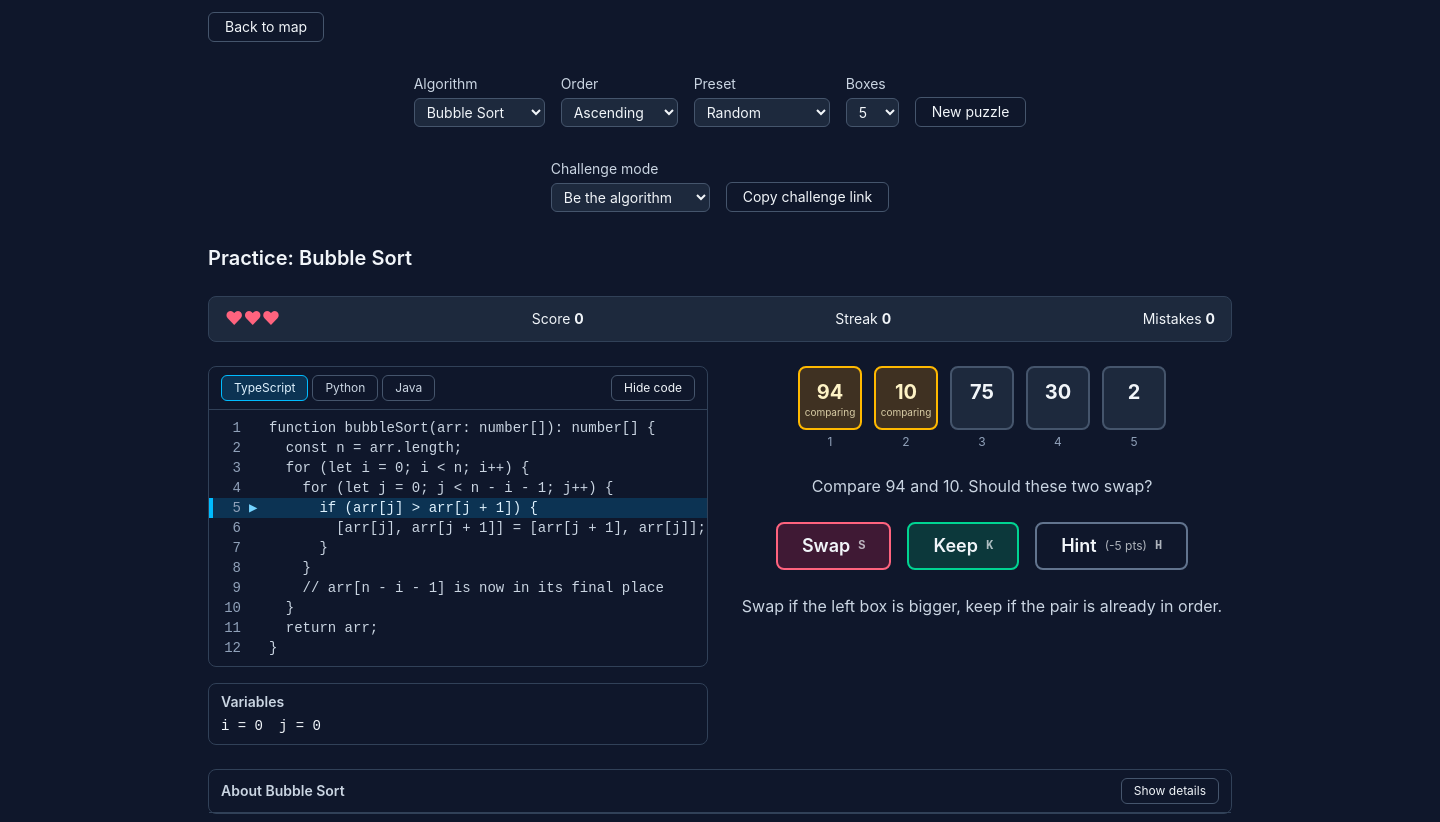
Scenario: PracticeScreen › switching to descending flips the comparison in the code
Select "Descending" in the dropdown labelled "Order" at (619, 112), box [561,98,678,127]
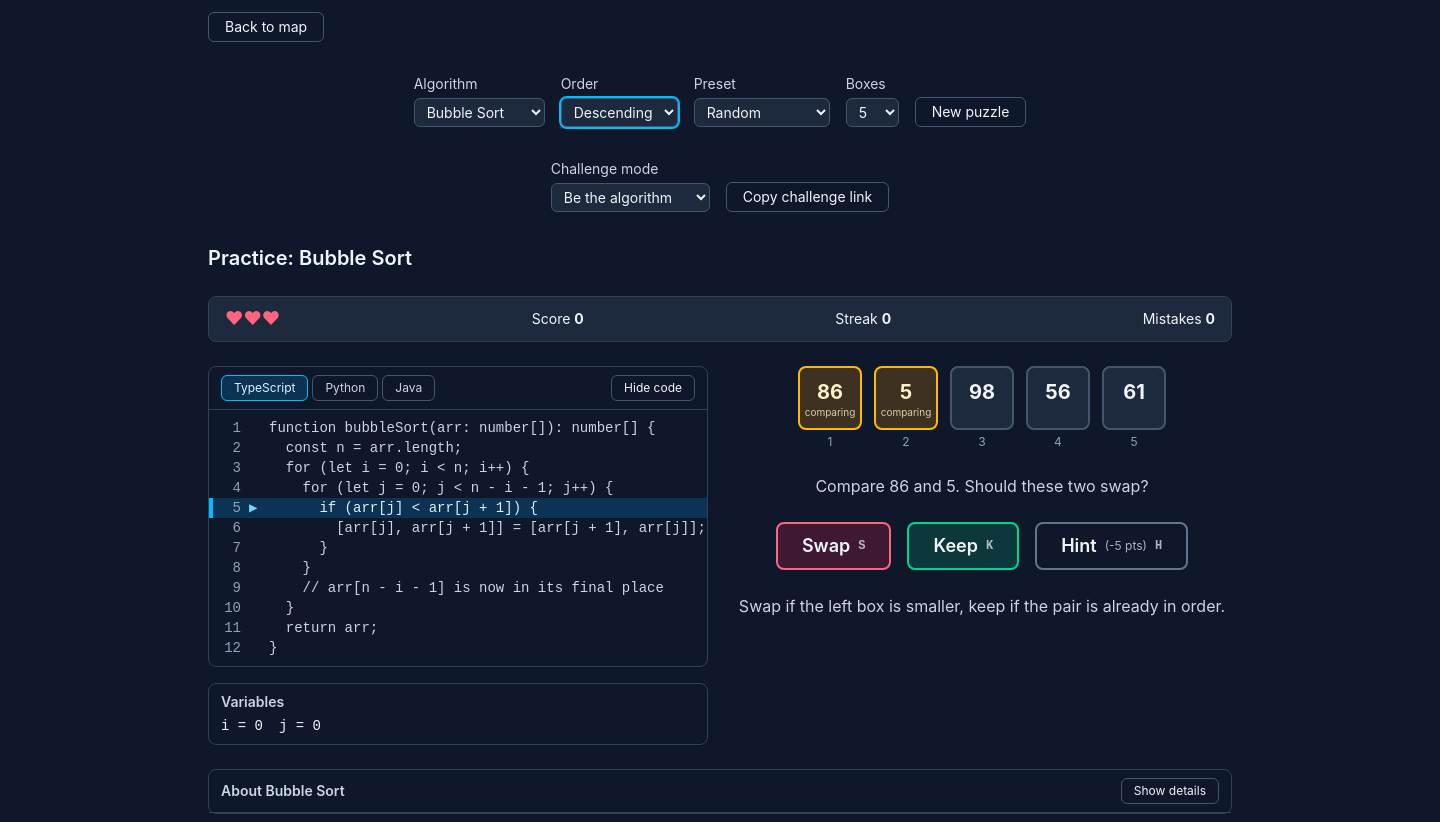
Expected: the text "if (arr[j] < arr[j + 1]) {" is shown, [269,498,538,518]
